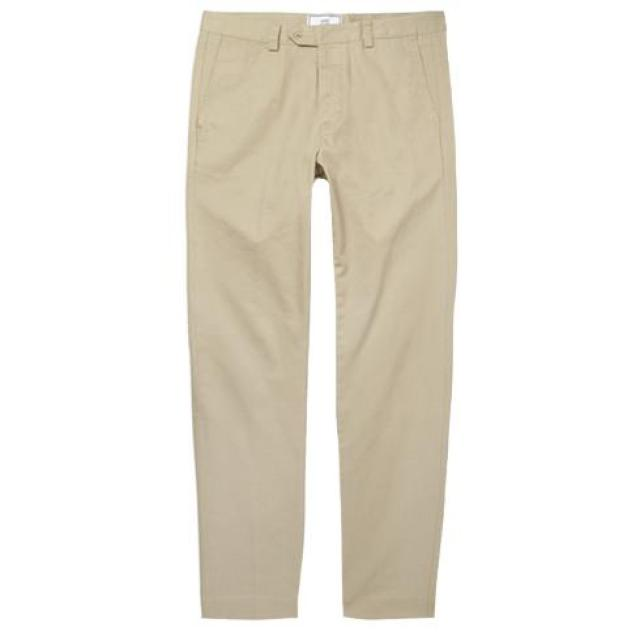long-pants: (185, 10, 460, 623)
